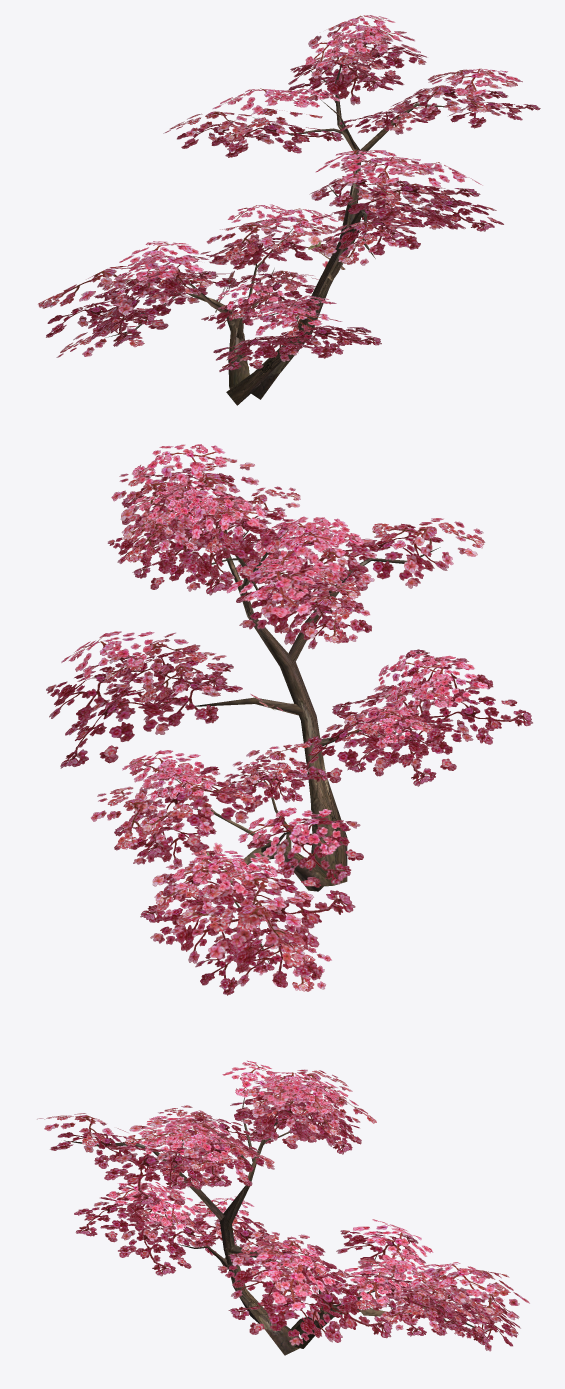
File: S_Tree_Red002_H6.FBX
3 renders of one model, top to bottom at view 1: azimuth 30°, elevation 25°; view 2: azimuth 150°, elevation 25°; view 3: azimuth 270°, elevation 25°, orthographic. The views are drawn at different scales.
Parts seen in each view (by area): view 1: S_Tree_Red002_H6_2, S_Tree_Red002_H6_1; view 2: S_Tree_Red002_H6_2, S_Tree_Red002_H6_1; view 3: S_Tree_Red002_H6_2, S_Tree_Red002_H6_1.
Part boxes in pixels (x1,y1,x2,y2): S_Tree_Red002_H6_2: (38, 15, 540, 371); S_Tree_Red002_H6_1: (105, 59, 461, 405); S_Tree_Red002_H6_2: (46, 444, 532, 995); S_Tree_Red002_H6_1: (164, 527, 440, 963); S_Tree_Red002_H6_2: (37, 1060, 529, 1351); S_Tree_Red002_H6_1: (64, 1088, 486, 1355).
Bounding box in the file's own units: 854 × 727 × 1042.
2 materials, 2 textured.
